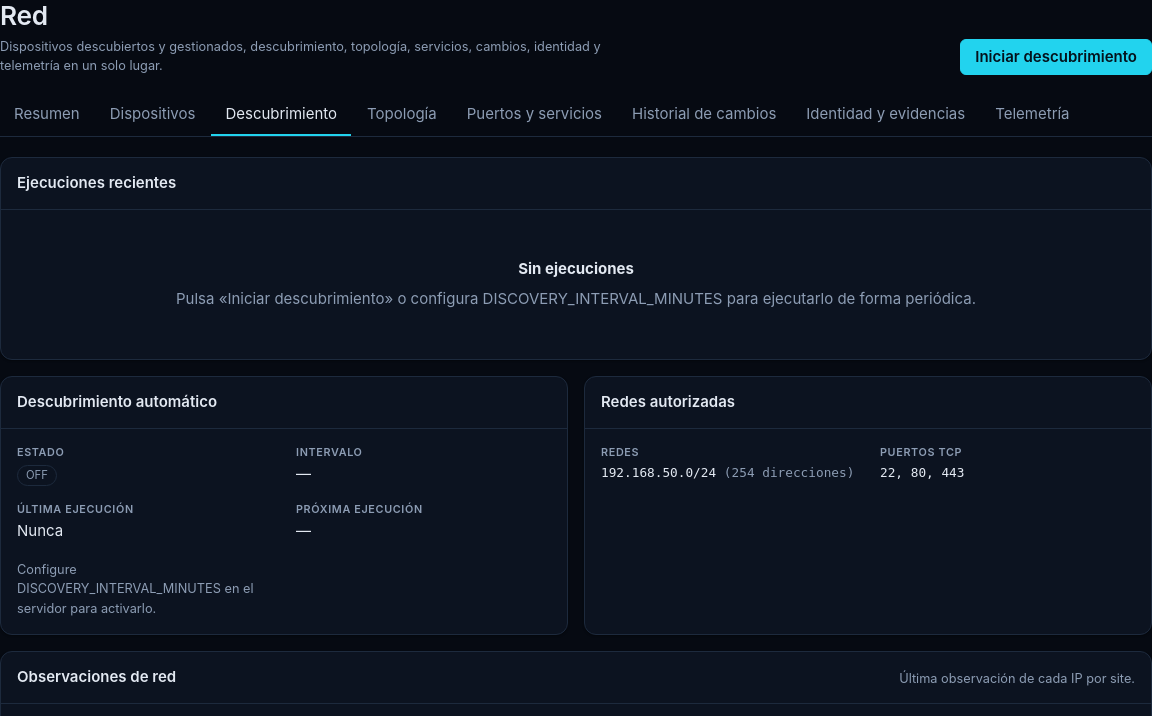
Test: NetworkPage: descubrimiento desde el dashboard › el modal solo ofrece redes autorizadas y advierte del alcance
The width and height of the screenshot is (1152, 716).
Click the button "Iniciar descubrimiento": [1056, 57] box [960, 39, 1151, 75]
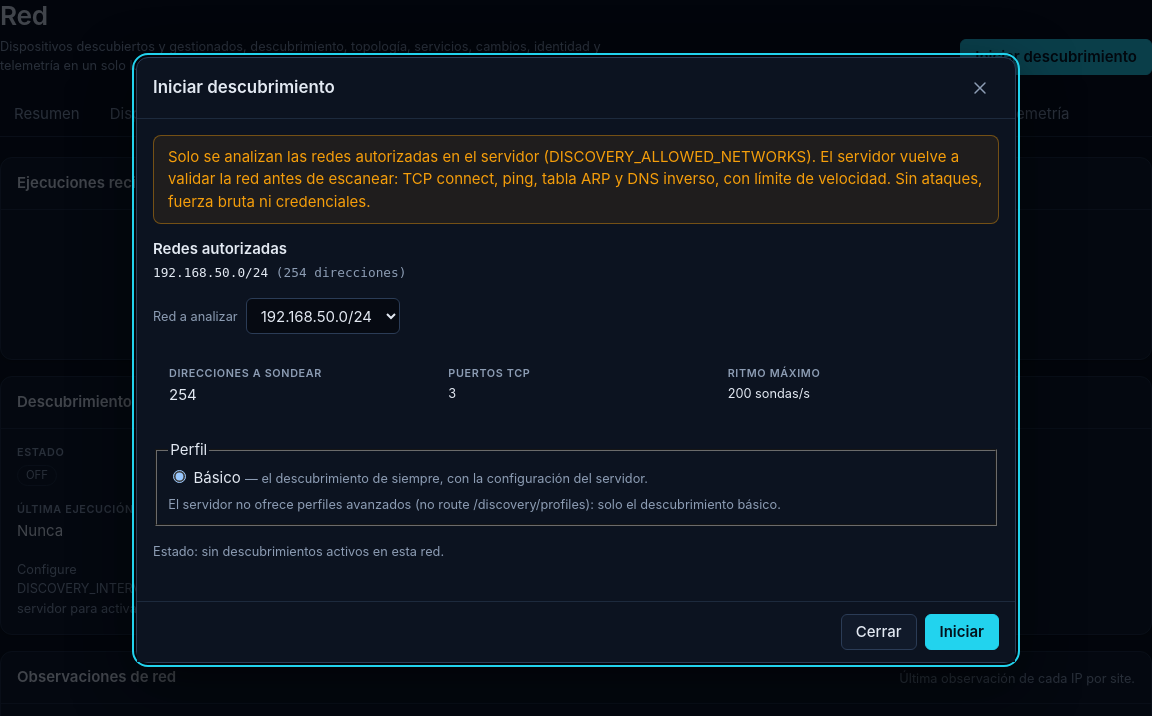
Result: the text "Solo se analizan las redes autorizadas" is shown at [168, 147, 816, 166]
Result: the text "254" is shown at [169, 385, 197, 404]
Result: the text "Estado: sin descubrimientos activos en esta red." is shown at [153, 544, 444, 559]
